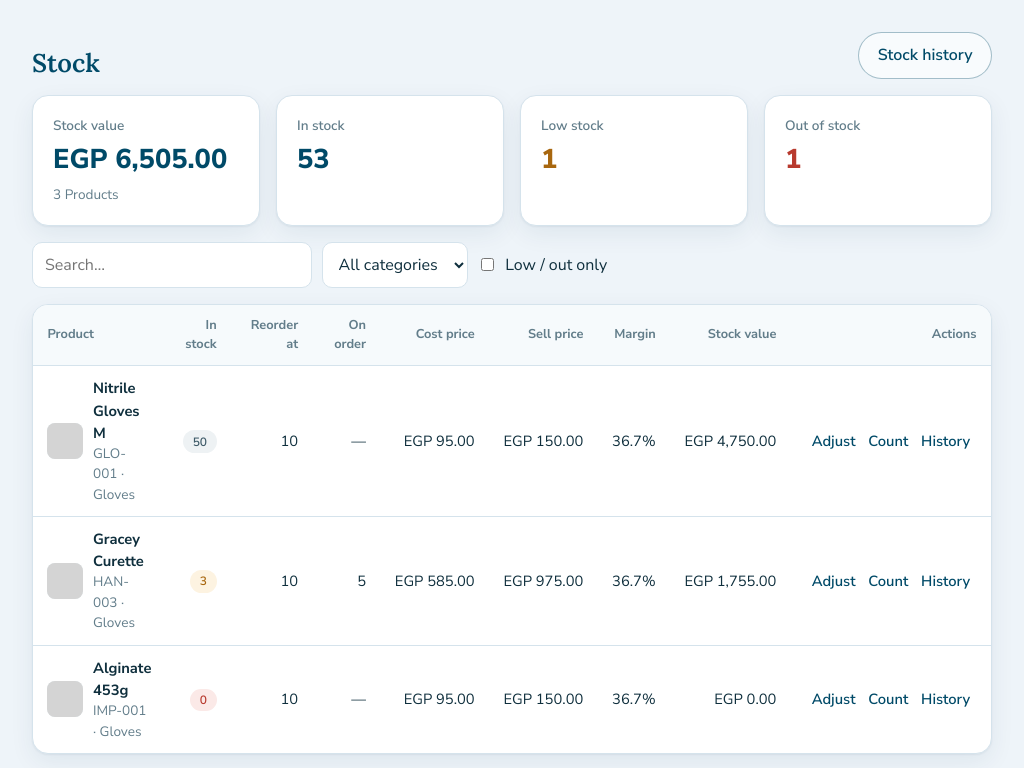
Test: Stock page › history shows each movement with sign and type
Click the button "History" in the row of "GLO-001 · Gloves": (946, 441) [915, 426, 977, 456]
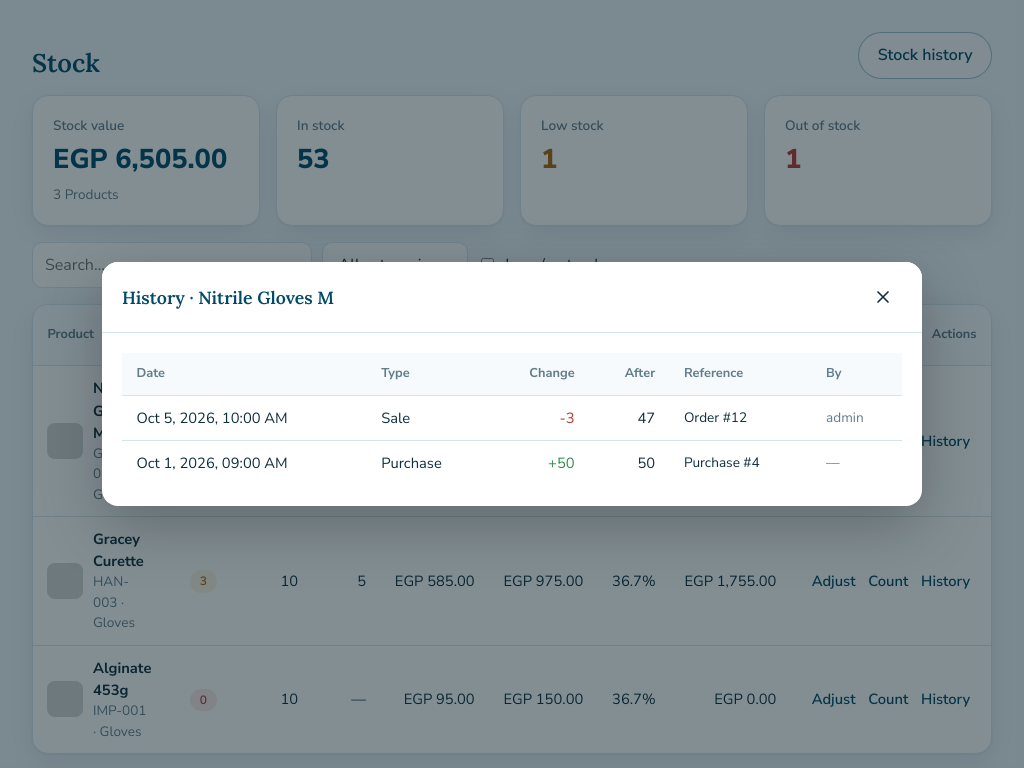
expect the text "Order #12" is shown: met, box [670, 395, 812, 441]
expect the text "Purchase" is shown: met, box [367, 441, 488, 486]
